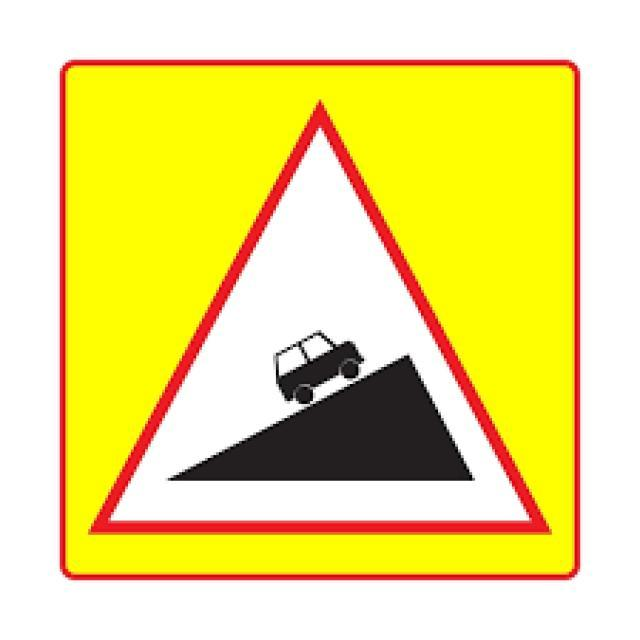steep ascent: (83, 93, 556, 542)
